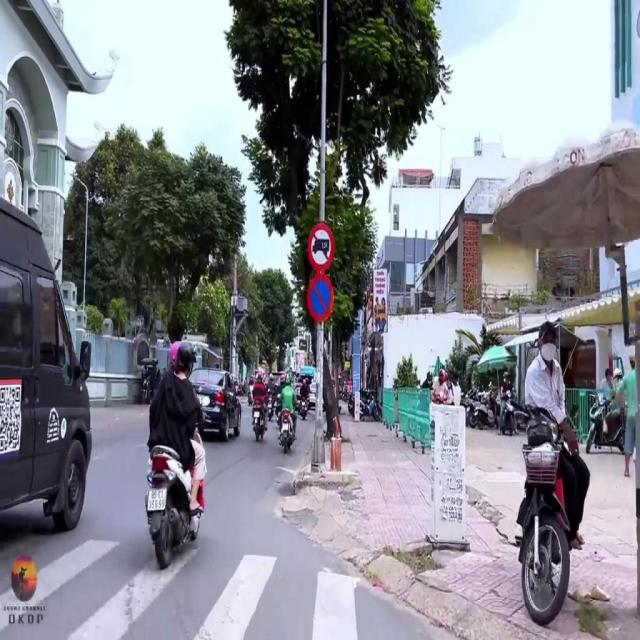cam_do_xe: (307, 274, 335, 322)
cam_o_to_tai: (308, 220, 336, 276)
